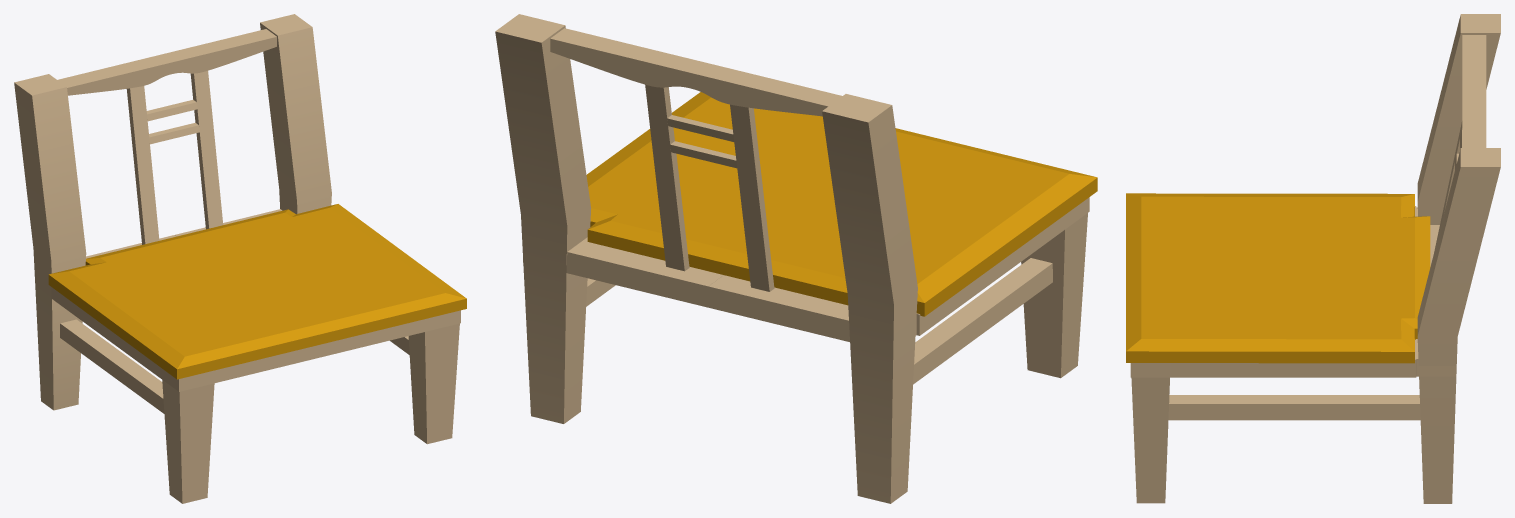
The model's file is sh-contrib-chaise-orange.glb.
3 views of the same model, side by side, from view 1: azimuth 30°, elevation 25°; view 2: azimuth 150°, elevation 25°; view 3: azimuth 270°, elevation 25° (orthographic). The views are drawn at different scales.
Parts seen in each view (by area): view 1: CHAIRS_SKELETON, CHAIRS_SEAT; view 2: CHAIRS_SKELETON, CHAIRS_SEAT; view 3: CHAIRS_SEAT, CHAIRS_SKELETON.
Part boxes in pixels (x1=…): CHAIRS_SKELETON: x1=14, y1=14, x2=460, y2=503; CHAIRS_SEAT: x1=48, y1=204, x2=466, y2=379; CHAIRS_SKELETON: x1=495, y1=14, x2=1089, y2=503; CHAIRS_SEAT: x1=586, y1=92, x2=1097, y2=316; CHAIRS_SEAT: x1=1126, y1=193, x2=1430, y2=363; CHAIRS_SKELETON: x1=1130, y1=14, x2=1500, y2=503.
Bounding box in the file's own units: 1 × 1 × 1.
